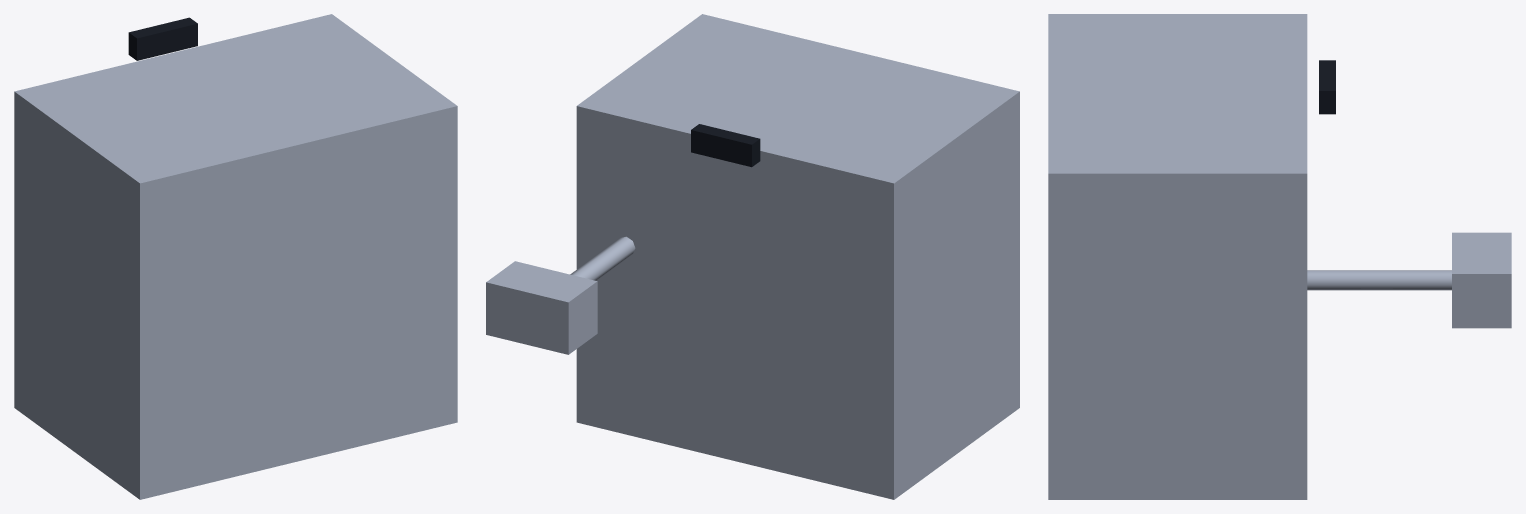
Rendered from enemy-playground-anvil-monk-v1.glb.
3 renders of one model, left to right at view 1: azimuth 30°, elevation 25°; view 2: azimuth 150°, elevation 25°; view 3: azimuth 270°, elevation 25°, orthographic. The views are drawn at different scales.
Parts seen in each view (by area): view 1: Anvil Monk; view 2: Anvil Monk; view 3: Anvil Monk.
Part boxes in pixels (left/top/right/bottom): Anvil Monk: left=14, top=14, right=457, bottom=499; Anvil Monk: left=486, top=14, right=1019, bottom=499; Anvil Monk: left=1048, top=14, right=1511, bottom=499.
Bounding box in the file's own units: 1.77 × 1.78 × 2.17.
